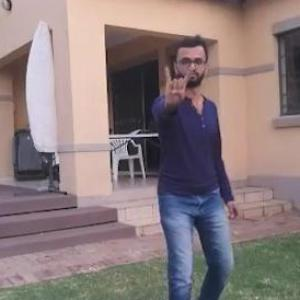takeoff-hand: (158, 58, 197, 108)
